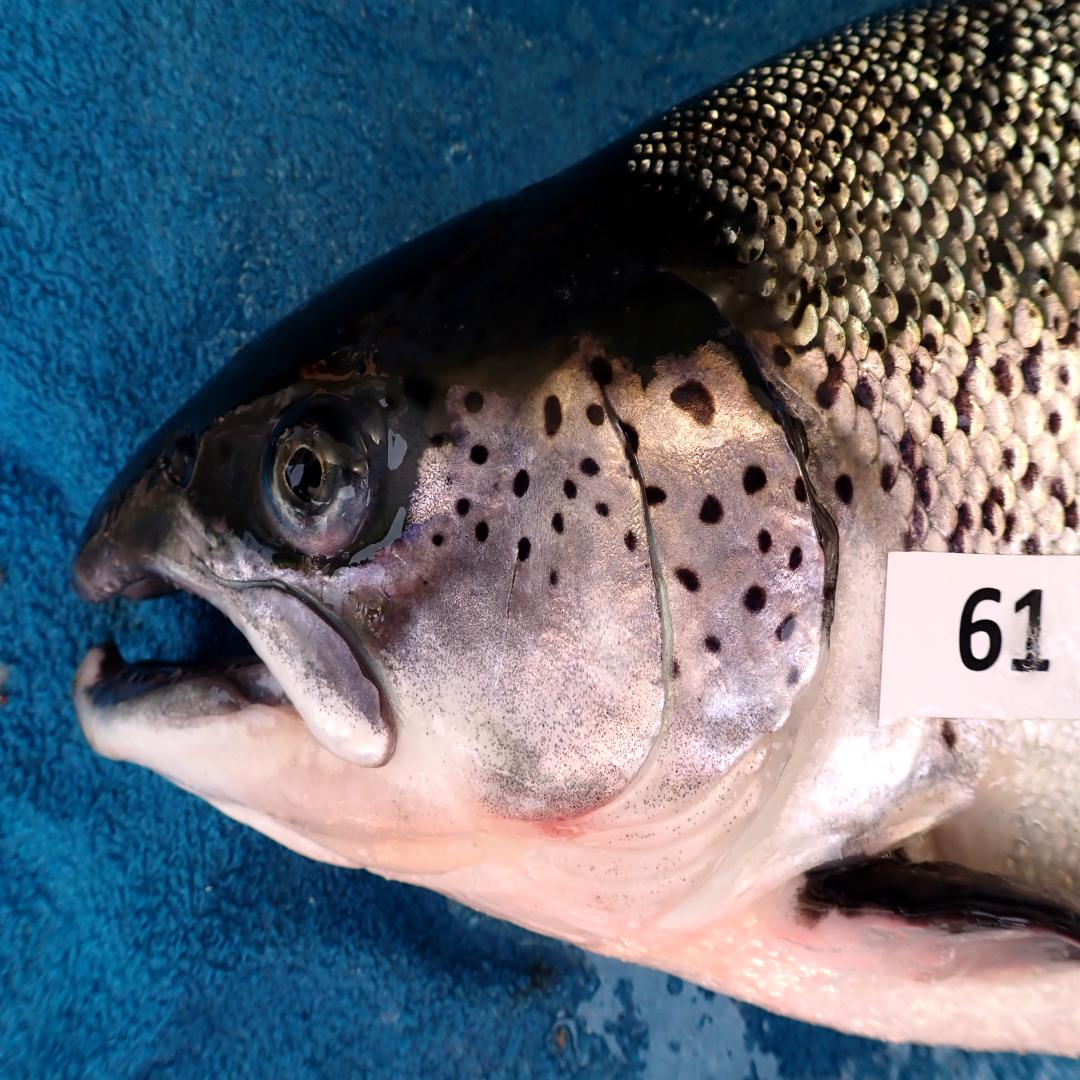roi: (391, 336, 835, 960)
